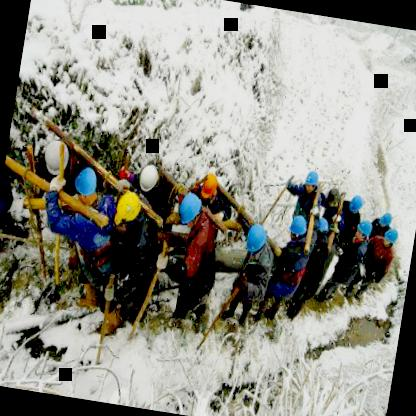helmet: (108, 186, 148, 238), (68, 160, 104, 208), (40, 134, 76, 178), (176, 191, 207, 230), (244, 220, 270, 258), (136, 161, 163, 195), (286, 212, 312, 244), (198, 168, 221, 202), (302, 166, 323, 196), (353, 216, 376, 242), (345, 192, 367, 219), (380, 226, 402, 251), (376, 208, 394, 231)
